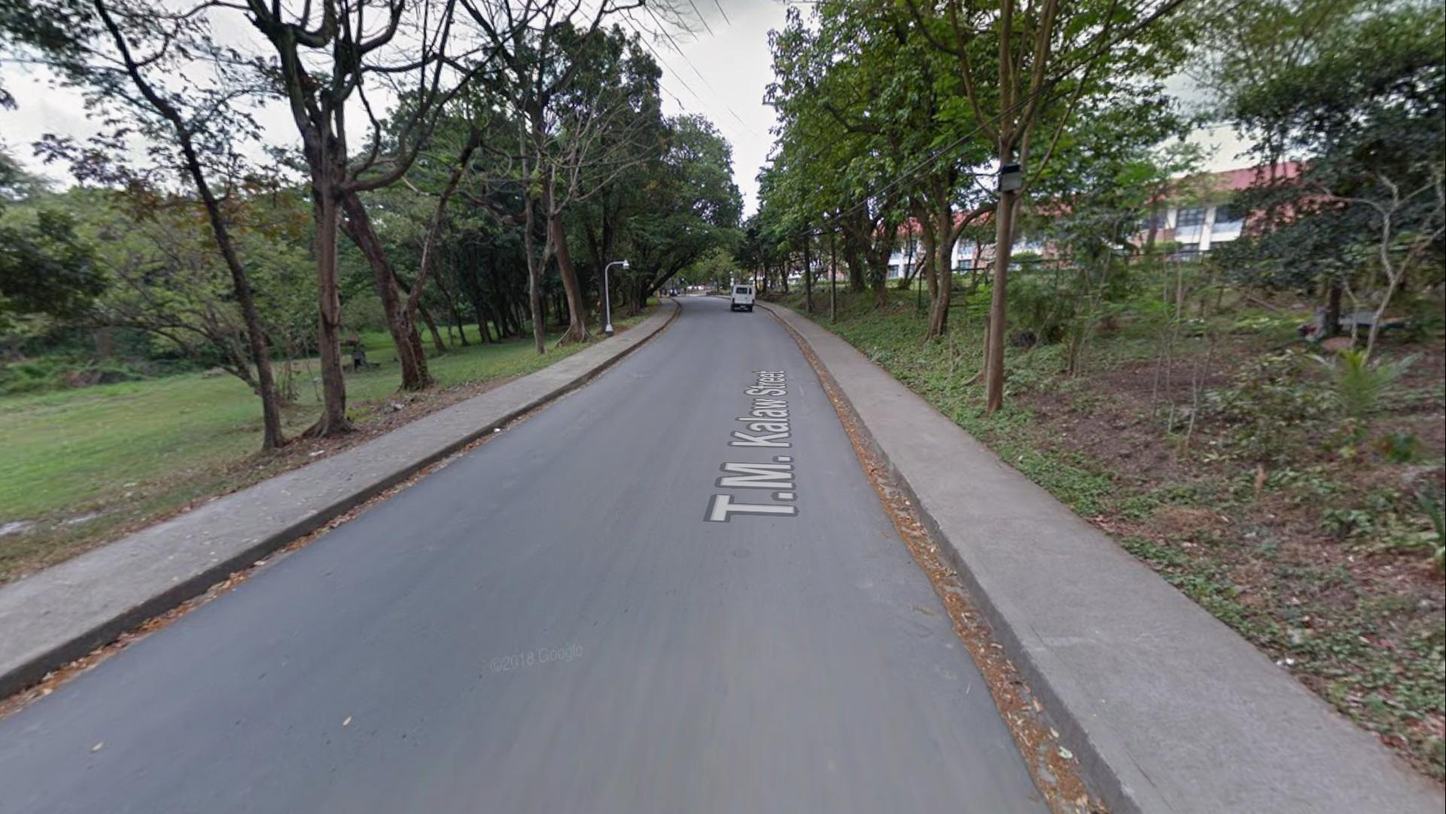pedestrian: (663, 287, 669, 298), (658, 286, 663, 299), (683, 286, 688, 298)
